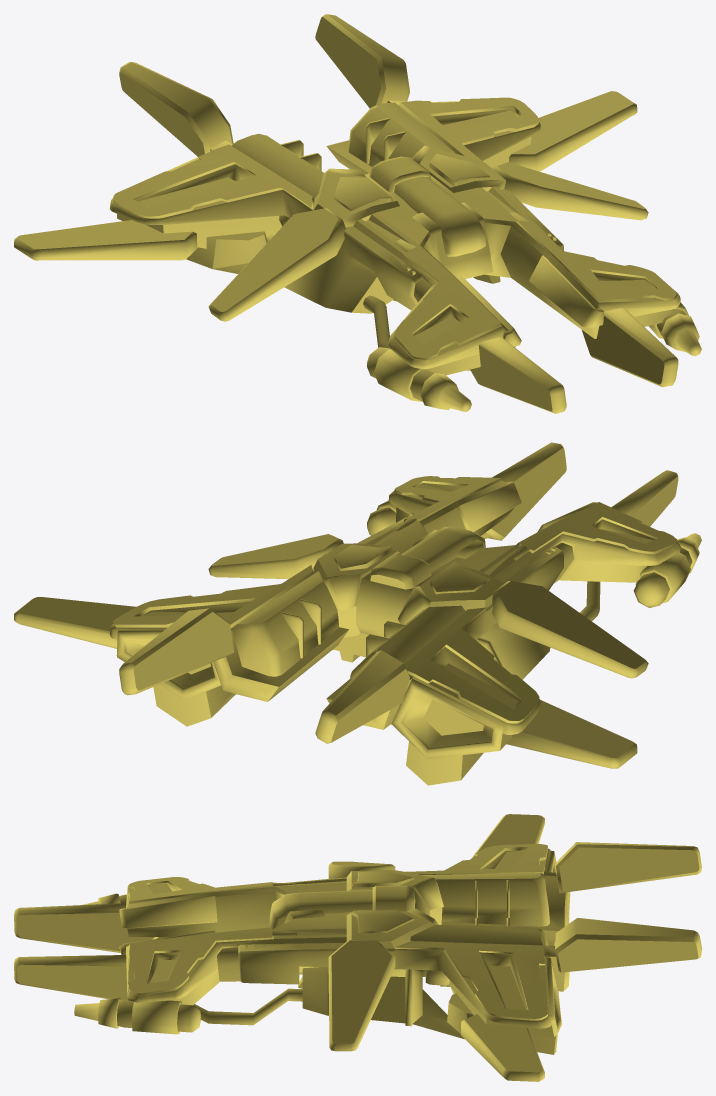
Rendered from SG_velez.FBX.
3 renders of one model, top to bottom at view 1: azimuth 30°, elevation 25°; view 2: azimuth 150°, elevation 25°; view 3: azimuth 270°, elevation 25°, orthographic. The views are drawn at different scales.
Parts seen in each view (by area): view 1: SG_velez; view 2: SG_velez; view 3: SG_velez.
Boxes of the visible parts, x1=… form: SG_velez: x1=14, y1=14, x2=701, y2=413; SG_velez: x1=14, y1=442, x2=701, y2=785; SG_velez: x1=14, y1=814, x2=701, y2=1081.
Bounding box in the file's own units: 19.37 × 4.14 × 21.67.
